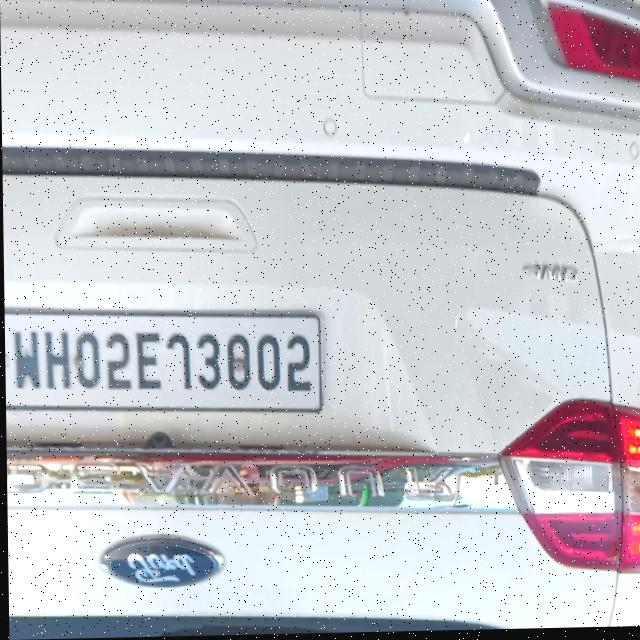plate: (4, 307, 322, 422)
